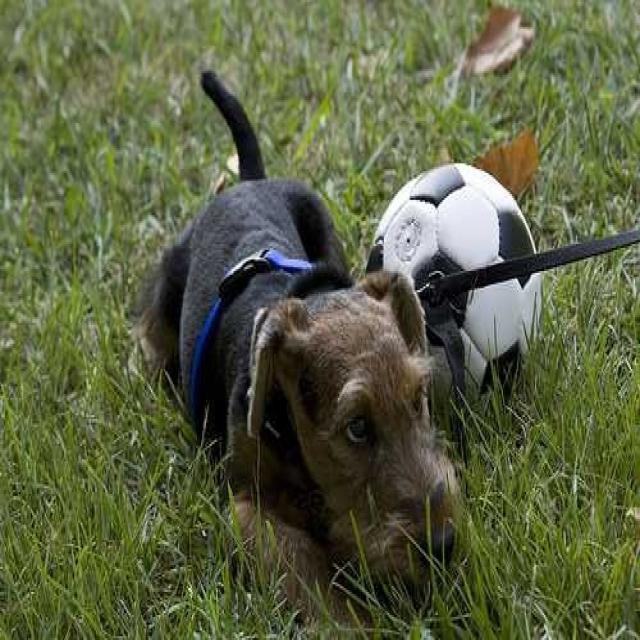ball: (363, 166, 542, 407)
